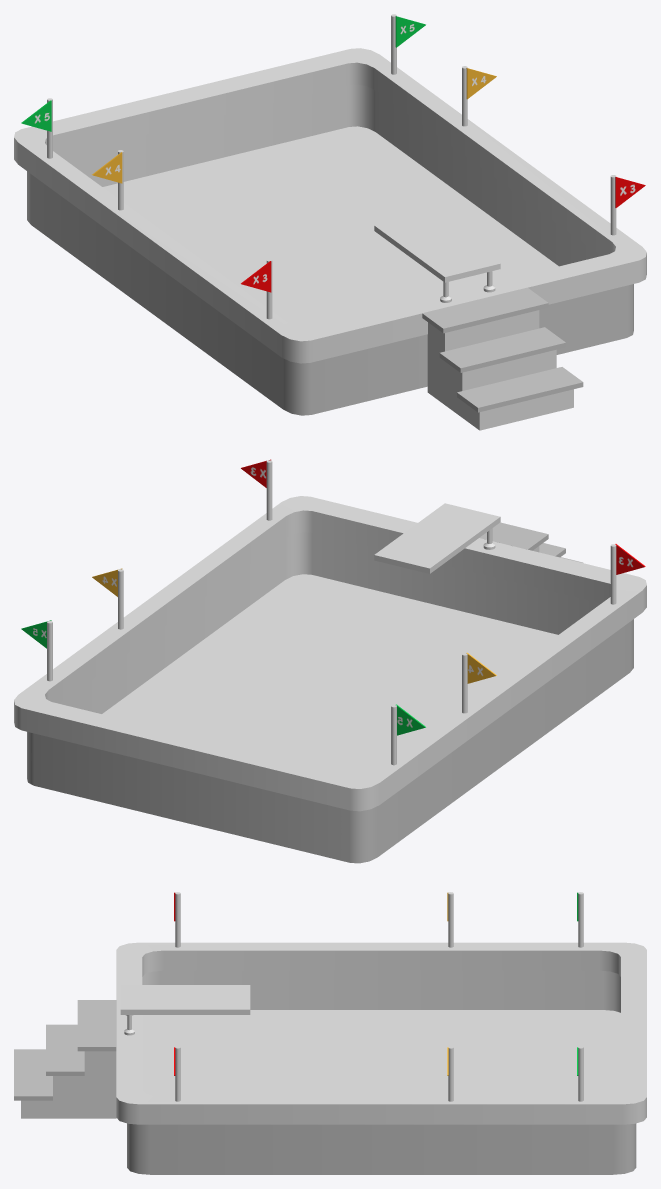
File: pool_scene (1).fbx
3 renders of one model, top to bottom at view 1: azimuth 30°, elevation 25°; view 2: azimuth 150°, elevation 25°; view 3: azimuth 270°, elevation 25°, orthographic. The views are drawn at different scales.
Parts seen in each view (by area): view 1: Pool, Stairs, Jump_platform, Flag.1, Flag.3, Flag.2, Flag.4, Flag.5, Flag.6; view 2: Pool, Jump_platform, Stairs, Flag.4, Flag.6, Flag.5, Flag.1, Flag.2, Flag.3; view 3: Pool, Stairs, Jump_platform.
Part boxes in pixels (left/top/right/bottom): Pool: left=14, top=48, right=646, bottom=415; Stairs: left=422, top=287, right=583, bottom=430; Jump_platform: left=374, top=212, right=500, bottom=282; Flag.1: left=610, top=175, right=645, bottom=235; Flag.3: left=391, top=14, right=425, bottom=74; Flag.2: left=462, top=66, right=496, bottom=126; Flag.4: left=241, top=259, right=272, bottom=319; Flag.5: left=92, top=150, right=123, bottom=210; Flag.6: left=21, top=98, right=52, bottom=158; Pool: left=14, top=496, right=646, bottom=863; Jump_platform: left=374, top=503, right=500, bottom=573; Stairs: left=479, top=522, right=582, bottom=562; Flag.4: left=610, top=544, right=645, bottom=604; Flag.6: left=391, top=704, right=425, bottom=765; Flag.5: left=462, top=652, right=496, bottom=713; Flag.1: left=241, top=459, right=272, bottom=520; Flag.2: left=92, top=568, right=123, bottom=629; Flag.3: left=21, top=620, right=52, bottom=681; Pool: left=116, top=942, right=646, bottom=1174; Stairs: left=14, top=1000, right=116, bottom=1118; Jump_platform: left=120, top=985, right=250, bottom=1014.
Bounding box in the file's own units: 661 × 217 × 975.
